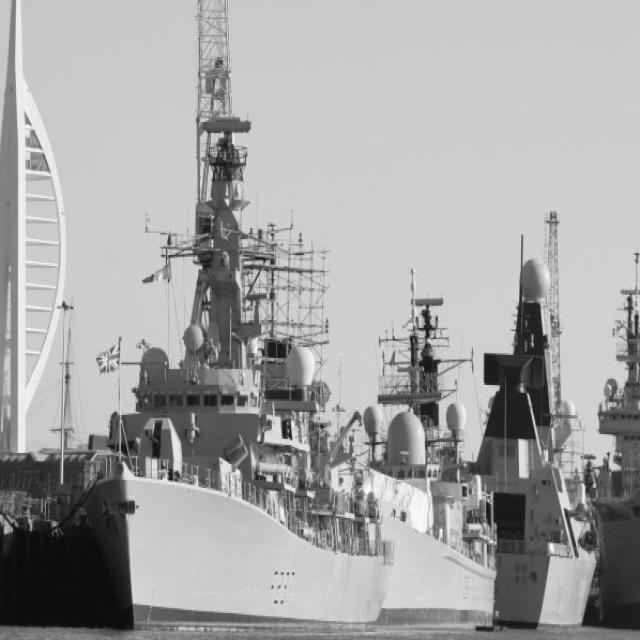Portanaves: (571, 245, 640, 639)
